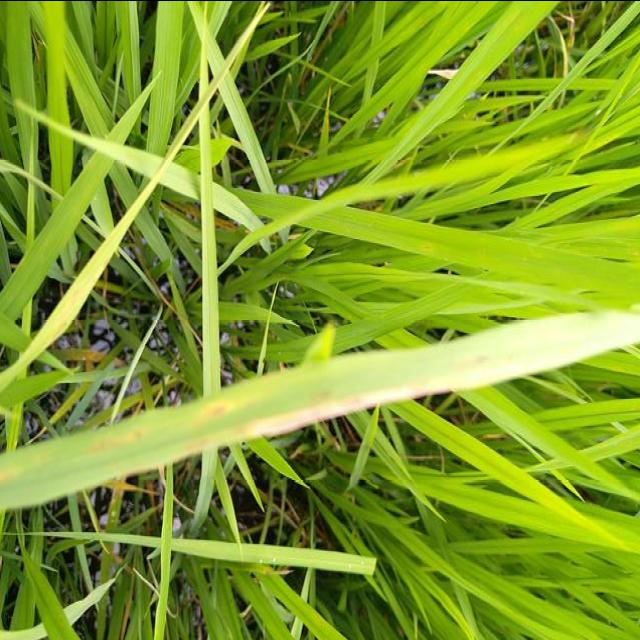Leaf Streak: (250, 375, 455, 437), (165, 424, 245, 463), (179, 395, 250, 426), (89, 426, 147, 449), (0, 461, 43, 481)
